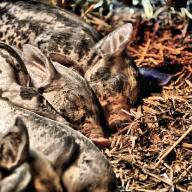boar: (0, 0, 173, 192)
